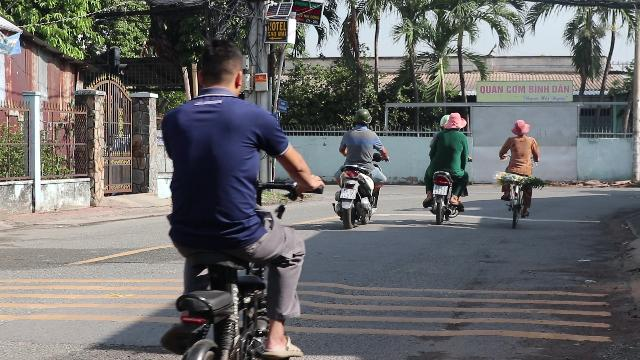helmet: (351, 108, 371, 128)
licenseplate: (340, 188, 356, 199), (434, 186, 448, 194)
motorcyclist: (154, 40, 322, 358), (330, 109, 386, 228), (420, 112, 470, 222)
nohelmet: (192, 42, 246, 98), (444, 112, 466, 132)
